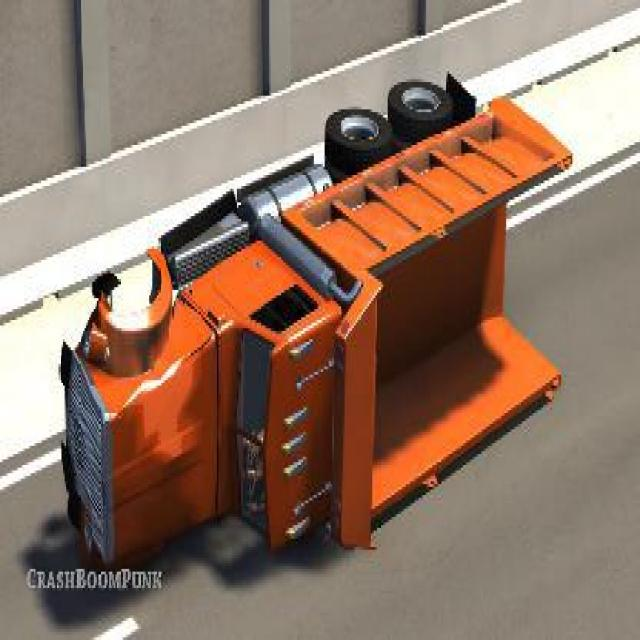accident: (49, 5, 577, 591)
